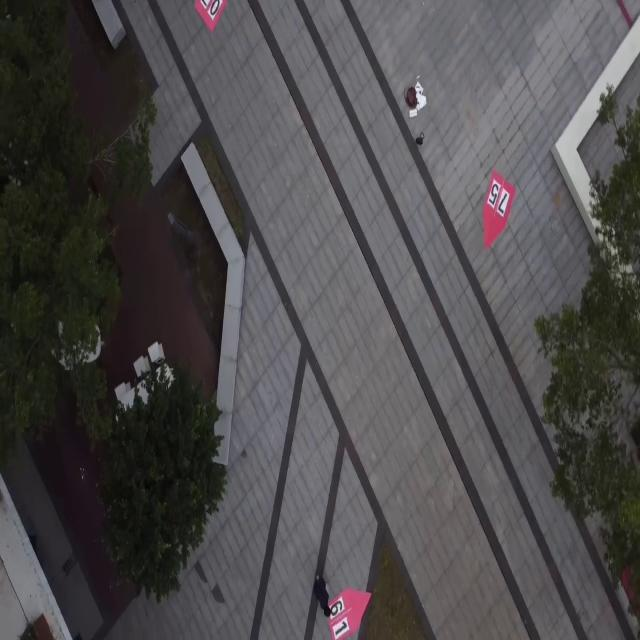-sign-: (482, 169, 516, 250), (327, 588, 371, 639), (193, 0, 227, 31)
